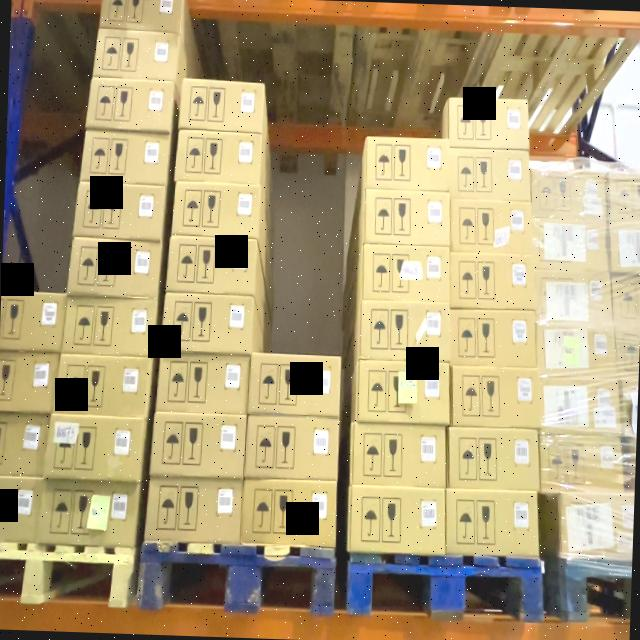box: (349, 489, 443, 552), (245, 476, 336, 540), (249, 417, 338, 479), (357, 363, 448, 422), (252, 355, 340, 412), (151, 482, 240, 538), (351, 431, 444, 484), (360, 301, 449, 356), (446, 496, 537, 549), (167, 240, 256, 294), (450, 430, 538, 484), (163, 296, 250, 350), (155, 419, 243, 471), (368, 137, 447, 194), (452, 371, 540, 422), (176, 185, 260, 238), (160, 361, 244, 414), (456, 252, 536, 306), (362, 252, 451, 300), (362, 195, 448, 243), (182, 80, 264, 130), (453, 314, 535, 362), (451, 149, 530, 197), (452, 101, 527, 150), (178, 135, 260, 179), (454, 204, 532, 250)
